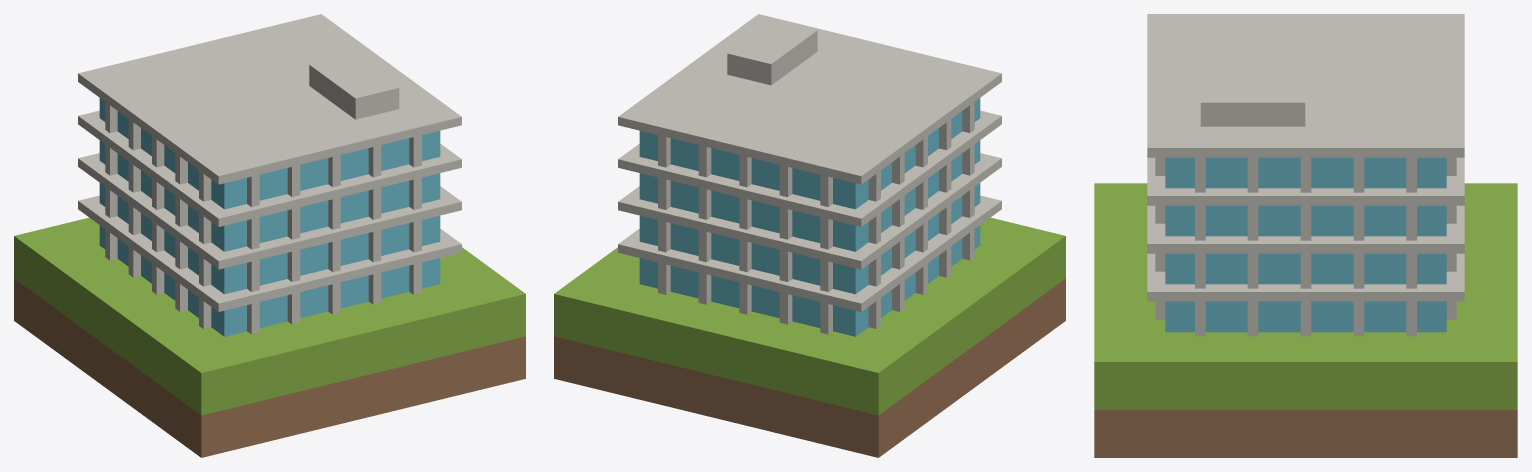
Rendered from building-office-small.obj.
3 renders of one model, left to right at view 1: azimuth 30°, elevation 25°; view 2: azimuth 150°, elevation 25°; view 3: azimuth 270°, elevation 25°, orthographic. The views are drawn at different scales.
Parts seen in each view (by area): view 1: building-office-small_Cube.130; view 2: building-office-small_Cube.130; view 3: building-office-small_Cube.130.
Part boxes in pixels (bbox=[...]): building-office-small_Cube.130: bbox=[14, 14, 525, 457]; building-office-small_Cube.130: bbox=[554, 14, 1065, 457]; building-office-small_Cube.130: bbox=[1094, 14, 1517, 457].
Size of the model in its own units: 8 by 6.5 by 8.
Materials: 1 (1 with a texture image).
